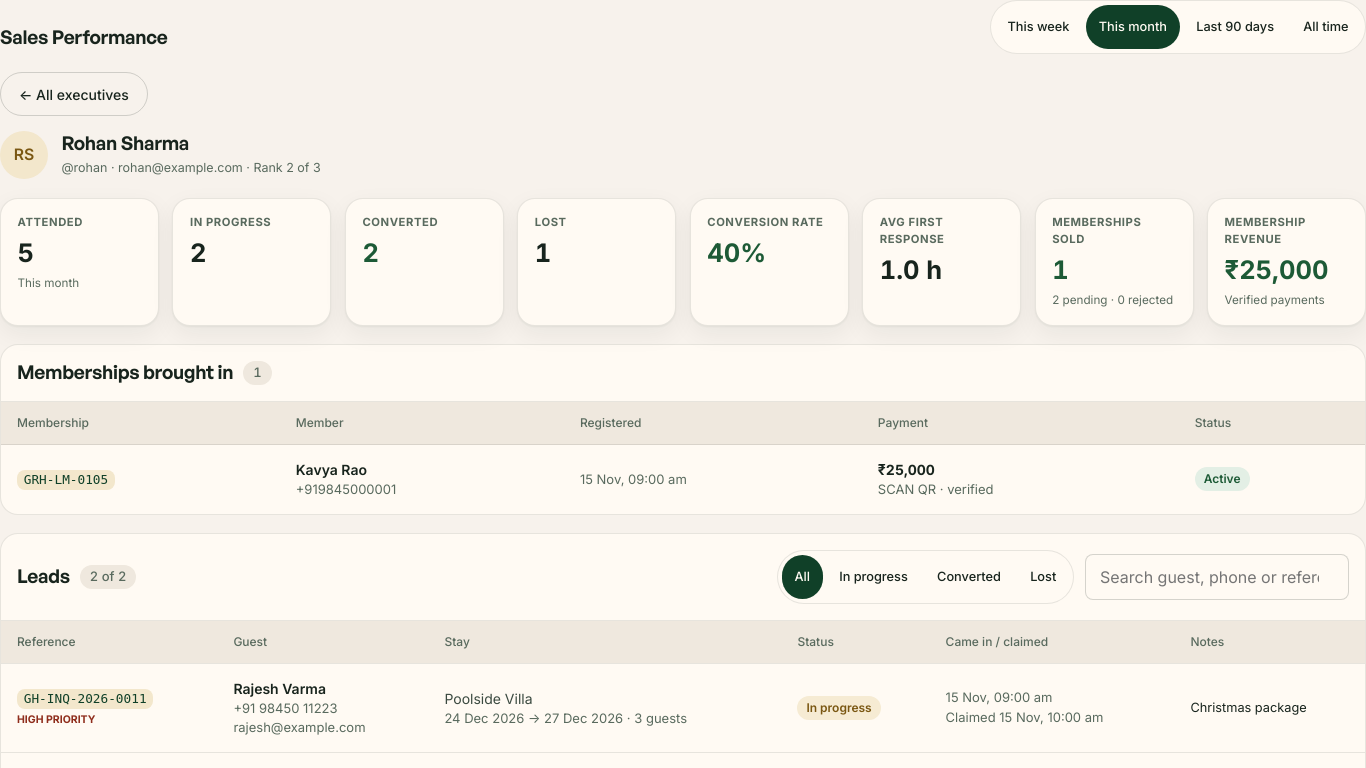
Scenario: SalesPerformance › drills into one executive's leads with search and status filter
Later steps or results of the test are not shown.
Expected: the text "Rajesh Varma" is shown, [233,680,326,697]
Expected: the heading "Rohan Sharma" is shown, [62,131,189,155]
Click the button "Converted". click: (969, 577)
box: [924,555,1014,599]
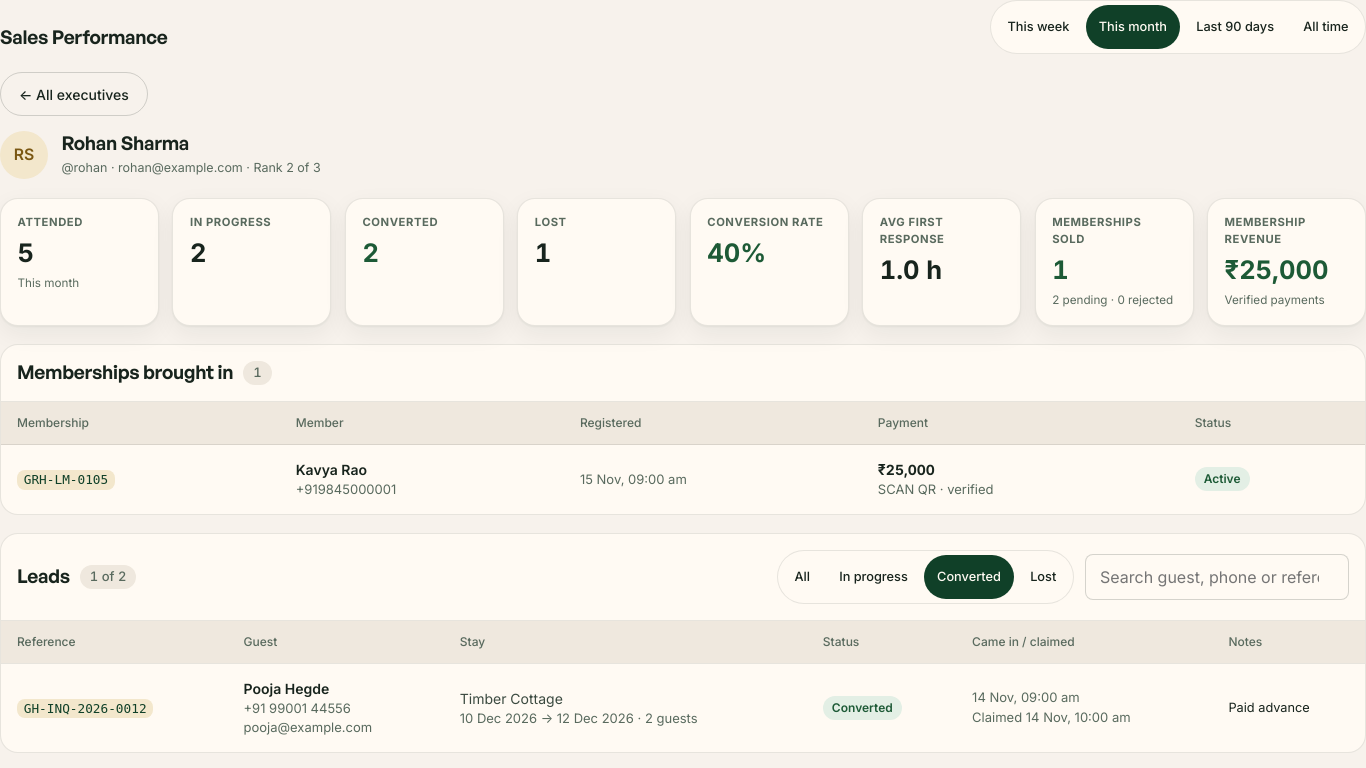
Expected: the text "Pooja Hegde" is shown, [244,680,329,697]
Expected: the text "Rajesh Varma" is gone
Click the button "All". click: (802, 577)
box: [782,555,823,599]
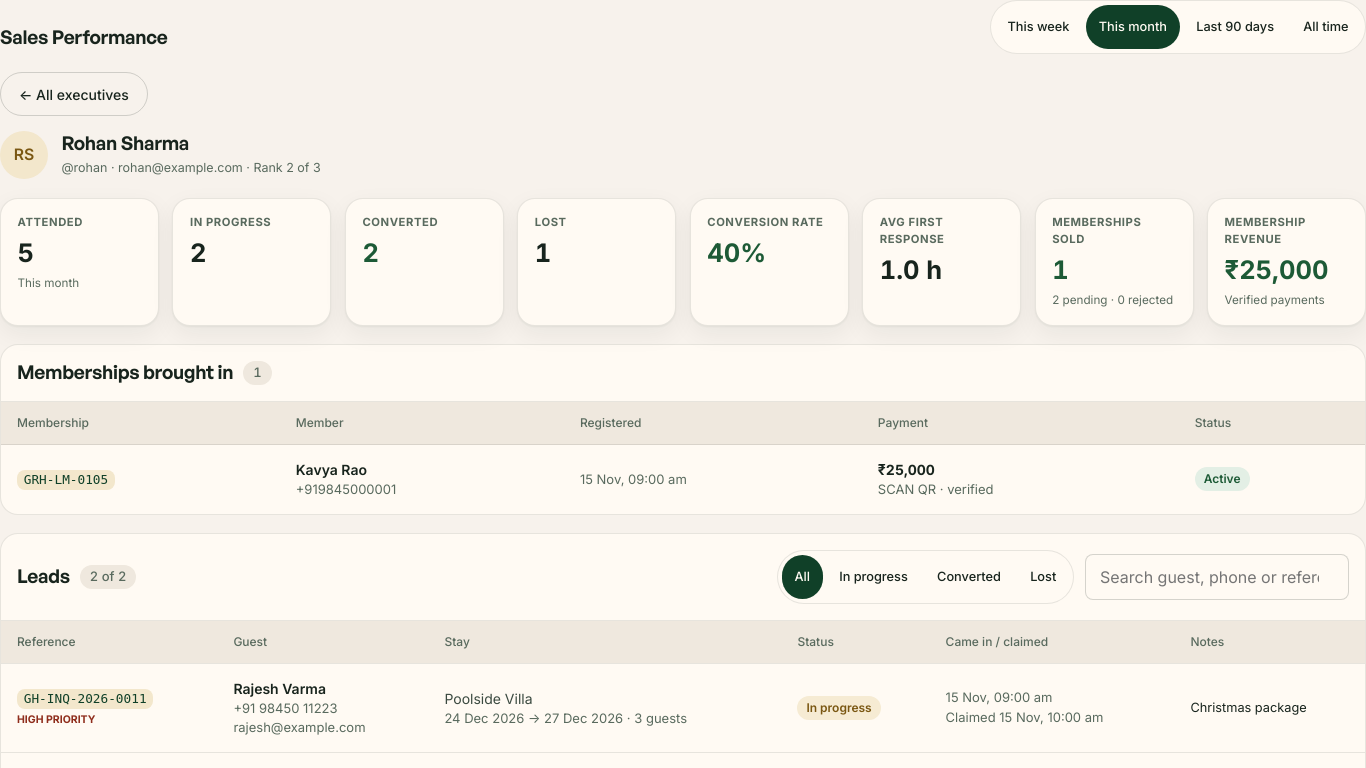
Type "0011" into the search field named "Search leads". click: (1217, 577)
box: [1085,554,1349,600]
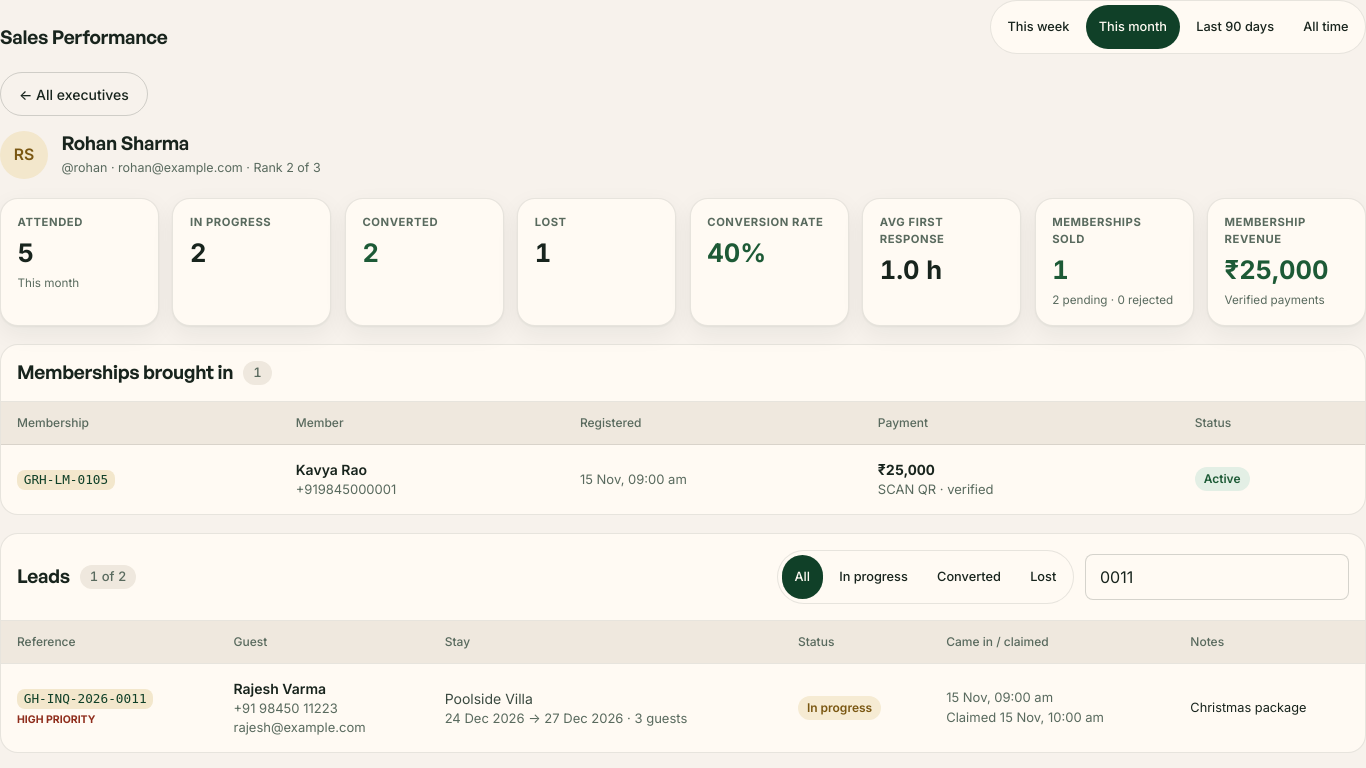
Expected: the text "Pooja Hegde" is not shown
Expected: the text "Rajesh Varma" is shown, [234,680,326,697]
